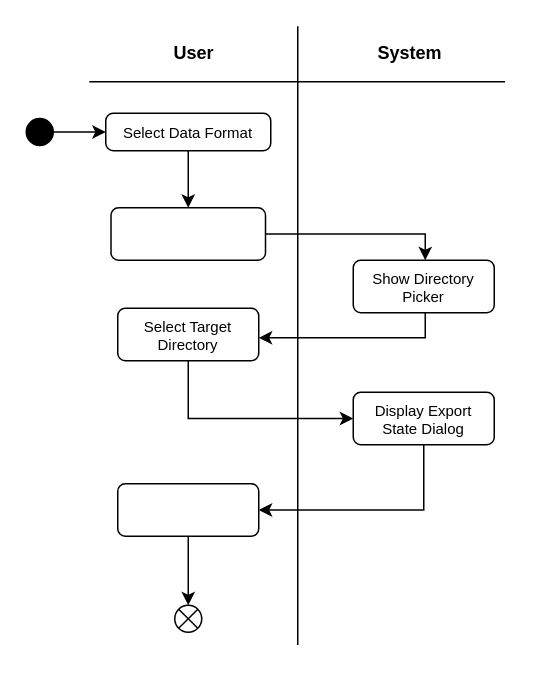
Some shapes in this 534 by 674 pixel diagram are drawn without their labels. Here are the shapes that lost their labels. From the top down, the centre of each, then its label:
point 188,233: Trigger Directory Picker
point 187,509: Confirm
